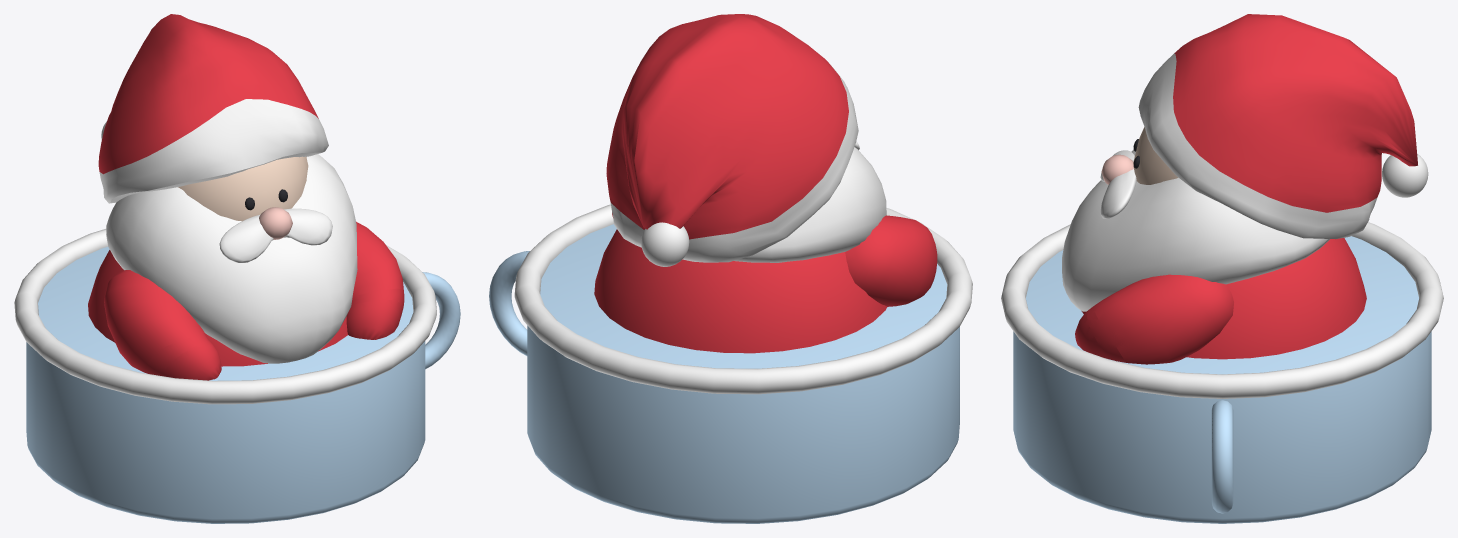
The model's file is teacup.glb.
3 views of the same model, side by side, from view 1: azimuth 30°, elevation 25°; view 2: azimuth 150°, elevation 25°; view 3: azimuth 270°, elevation 25° (orthographic). The views are drawn at different scales.
Parts seen in each view (by area): view 1: teacup_sky, teacup_white, teacup_red, teacup_skin, teacup_nose; view 2: teacup_sky, teacup_red, teacup_white; view 3: teacup_sky, teacup_red, teacup_white, teacup_skin, teacup_nose.
Part boxes in pixels (<box>): teacup_sky: <box>26,246,460,523</box>; teacup_white: <box>14,99,436,404</box>; teacup_red: <box>88,14,404,380</box>; teacup_skin: <box>178,156,308,221</box>; teacup_nose: <box>259,207,292,239</box>; teacup_sky: <box>489,224,959,523</box>; teacup_red: <box>594,14,937,353</box>; teacup_white: <box>514,65,972,394</box>; teacup_sky: <box>1013,236,1431,523</box>; teacup_red: <box>1075,14,1417,364</box>; teacup_white: <box>1001,53,1443,398</box>; teacup_skin: <box>1133,127,1177,184</box>; teacup_nose: <box>1101,154,1133,184</box>.
Size of the model in its own units: 3.25 by 2.98 by 2.86.
